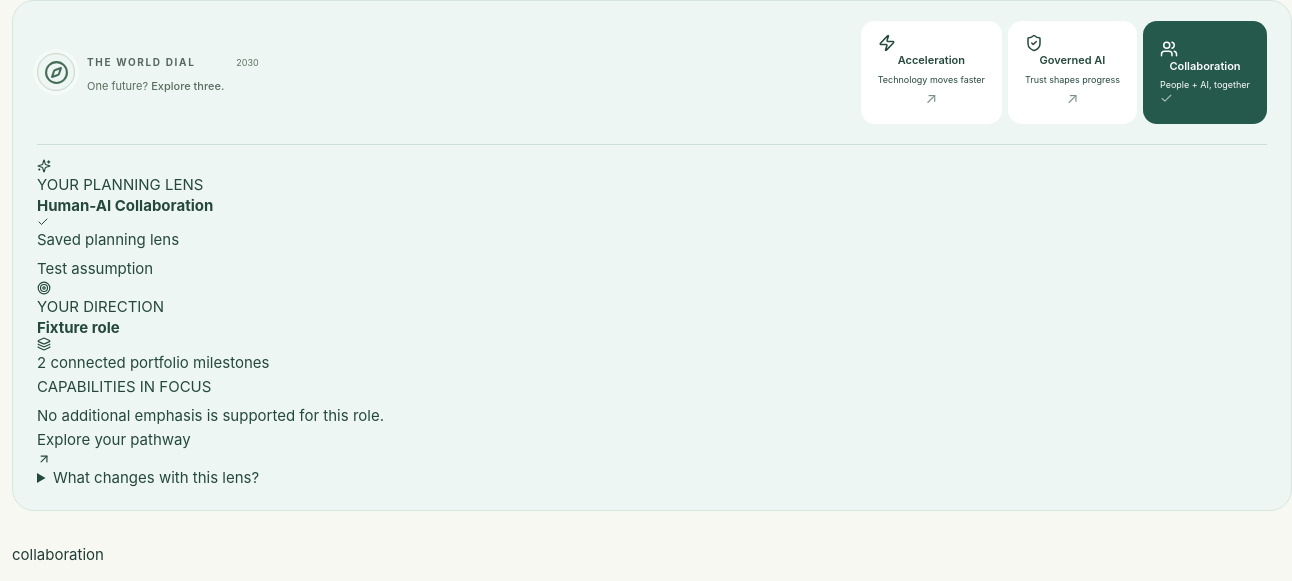
Scenario: Future workspace interactions › shares the World Dial selection across query consumers
This screenshot has width=1292, height=581.
Click the button "Governed AI Trust shapes progress ↗" at (1073, 72), box x1=1008 y1=21 x2=1137 y2=124
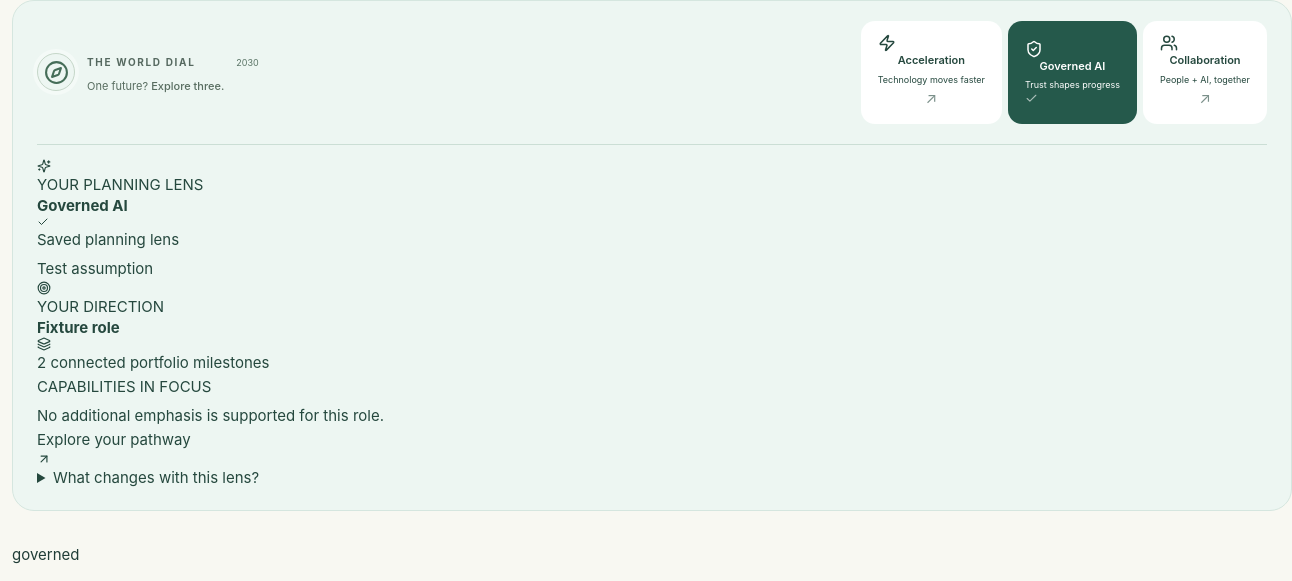
Check: the text "governed" is shown, box x1=12 y1=546 x2=80 y2=564
